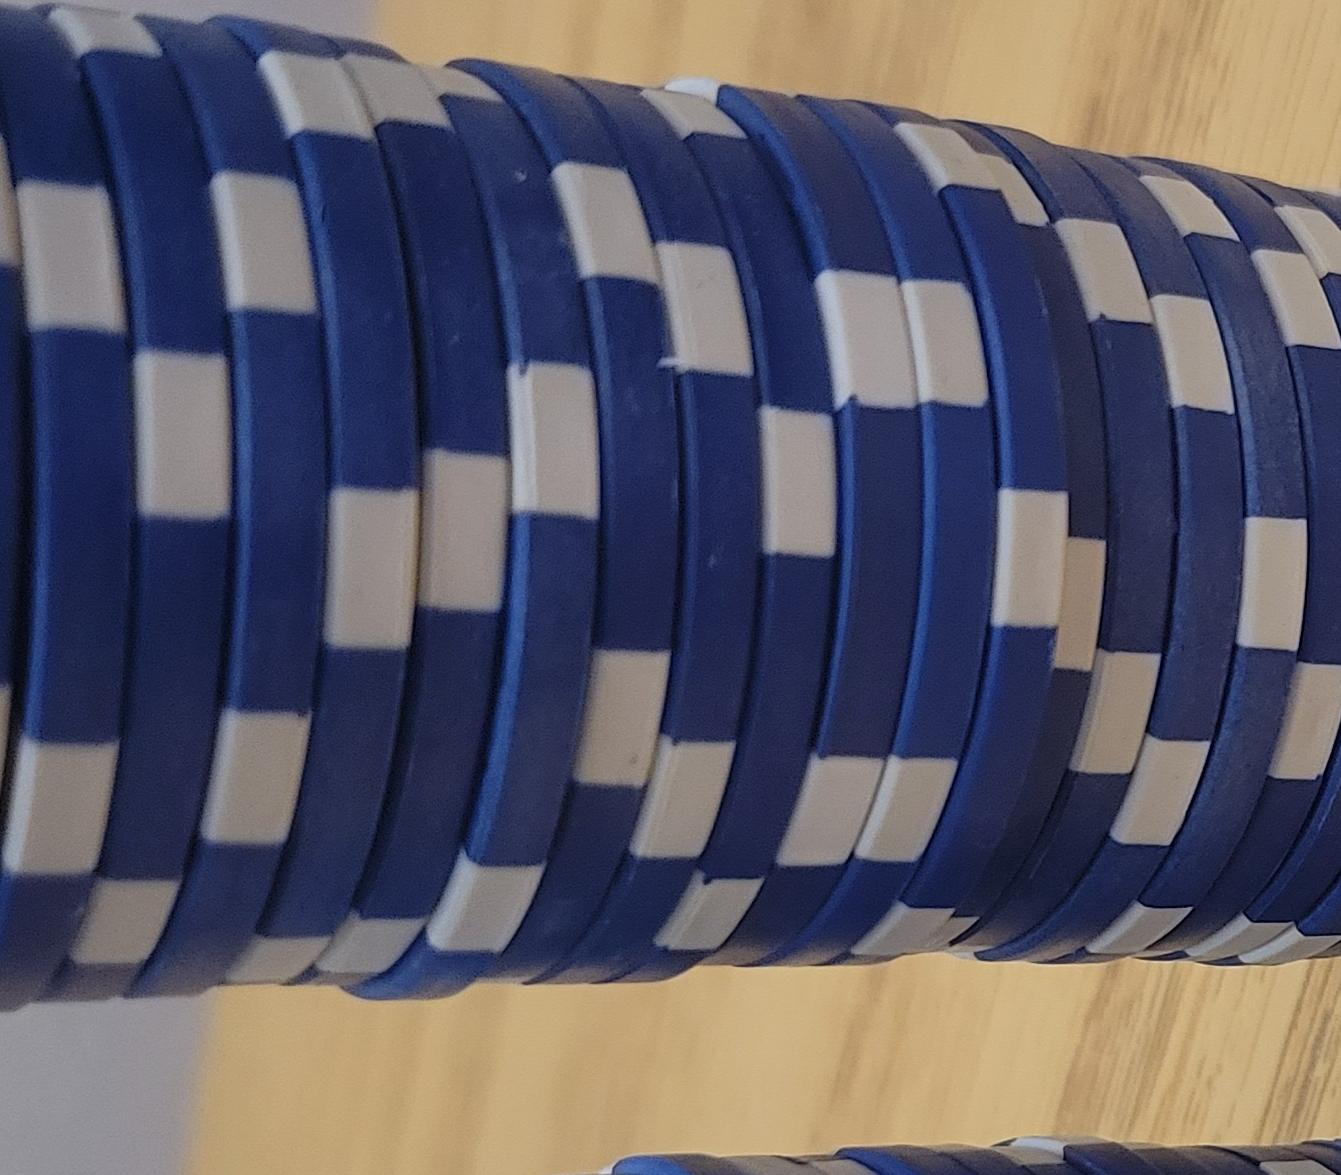Chip: (1, 184, 885, 1175)
